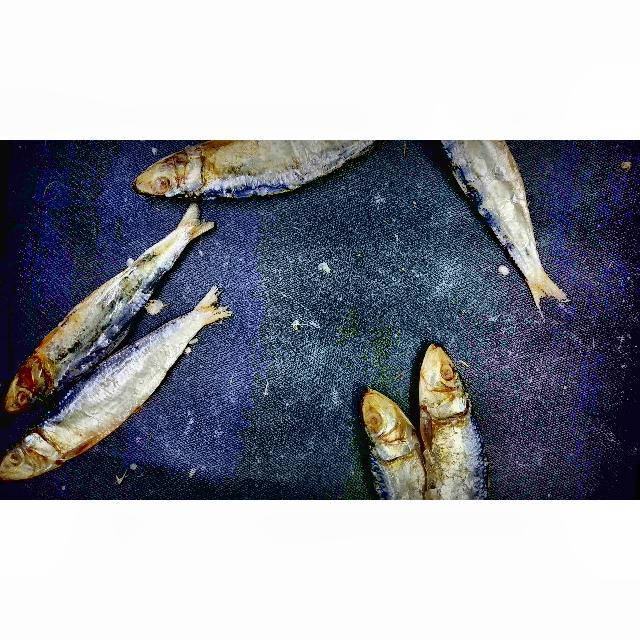Grade_C_Body: (41, 327, 189, 454), (42, 244, 164, 362), (437, 140, 540, 257), (209, 140, 376, 200), (416, 415, 494, 500)
Grade_C_Head: (351, 384, 418, 469), (413, 340, 470, 433), (132, 144, 211, 202)
Grade_C_Tail: (510, 256, 573, 311), (178, 281, 237, 336), (164, 205, 218, 254)
